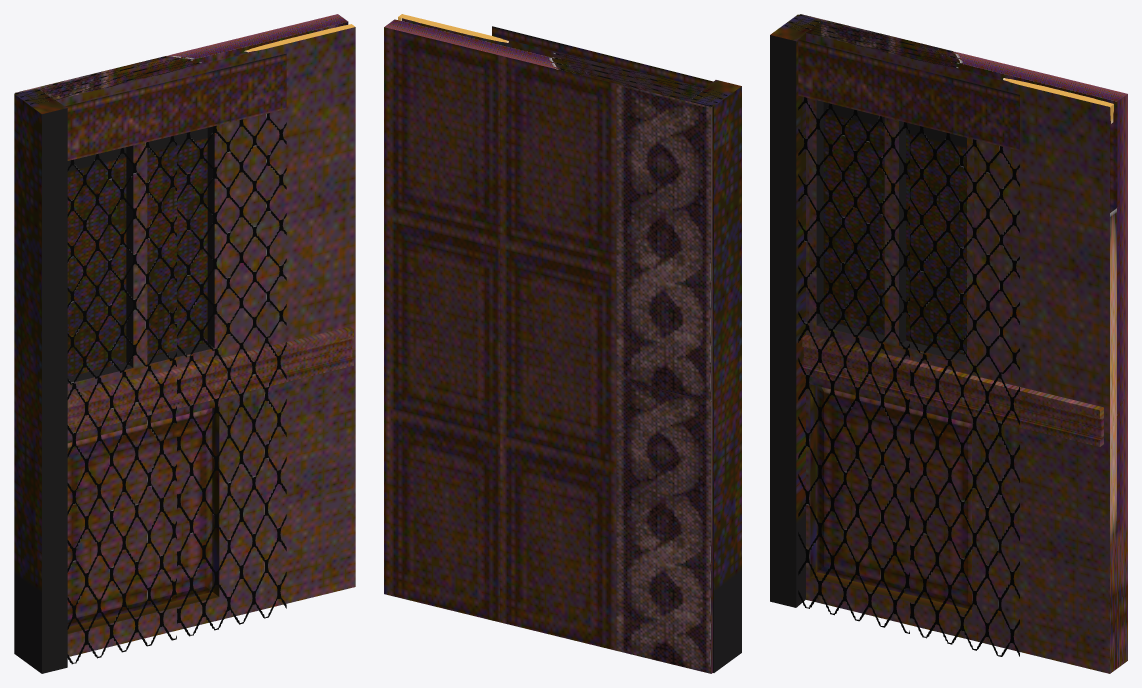
File: ElevatorDoorR.fbx
3 views of the same model, side by side, from view 1: azimuth 30°, elevation 25°; view 2: azimuth 150°, elevation 25°; view 3: azimuth 330°, elevation 25° (orthographic).
Visible parts, largest first — view 1: Cube.010; view 2: Cube.010; view 3: Cube.010.
Boxes of the visible parts, box(x1,y1,x2,y2) form: Cube.010: box(14, 14, 355, 673); Cube.010: box(384, 14, 741, 673); Cube.010: box(770, 14, 1127, 673).
Bounding box in the file's own units: 2420 × 3987 × 371.
